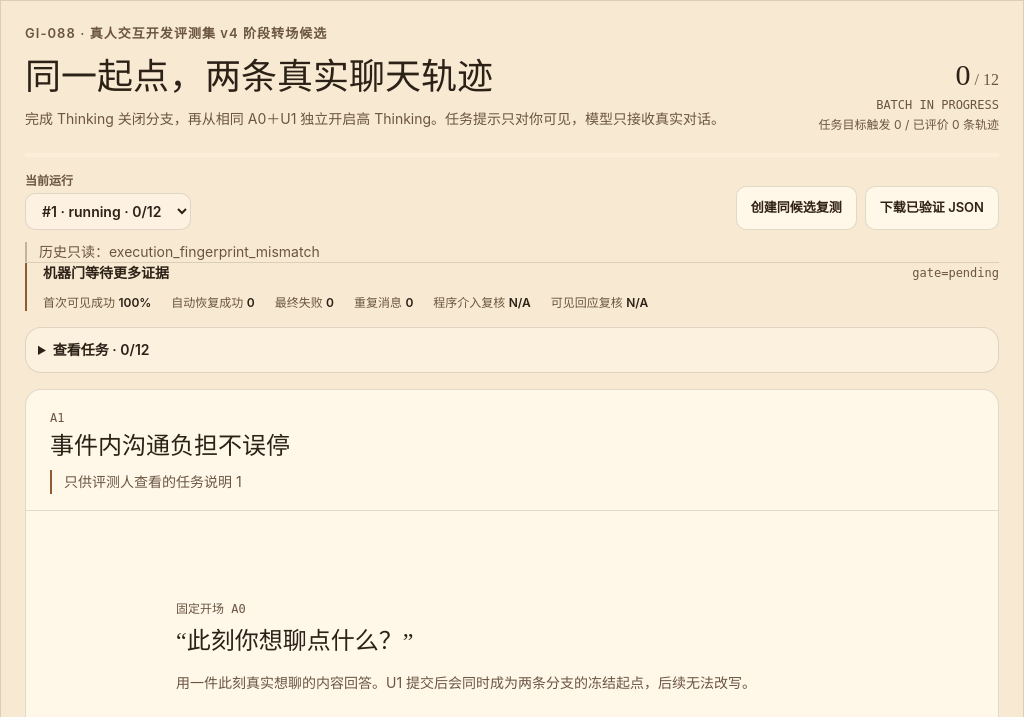
Scenario: GI-088 v8r2 evaluation workbench › 历史 running 已只读时仍开放全新 v8r2 复测运行
Click the button "创建同候选复测".
click(796, 208)  # box [736,186,857,230]
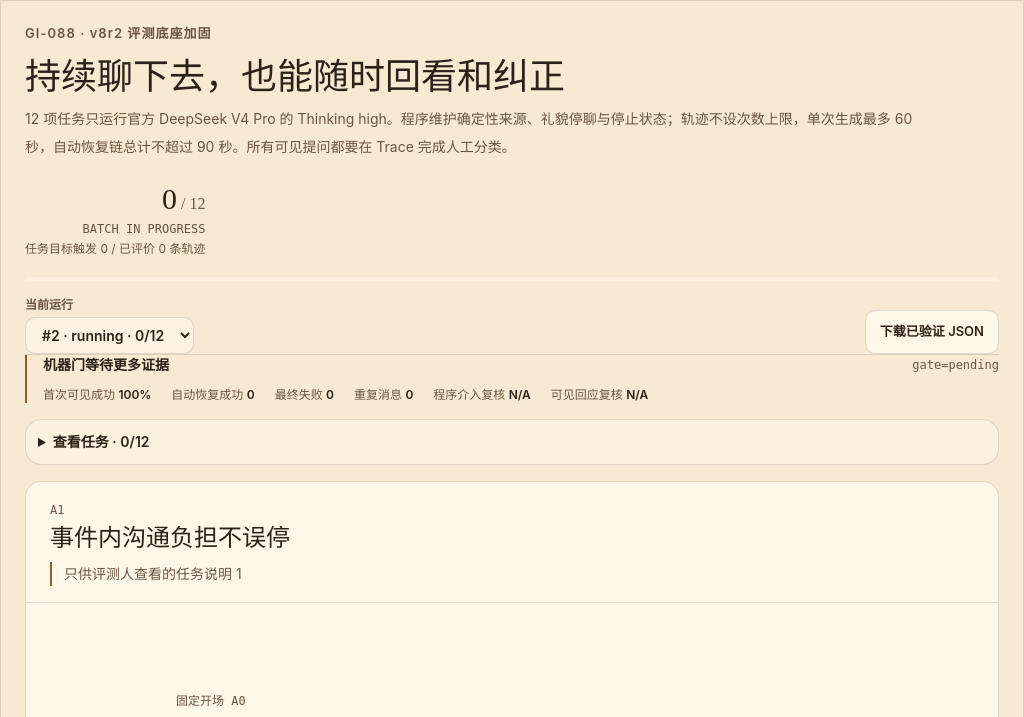
Now the dropdown labelled "当前运行" shows "#2 · running · 0/12", box [25,317,194,354]
